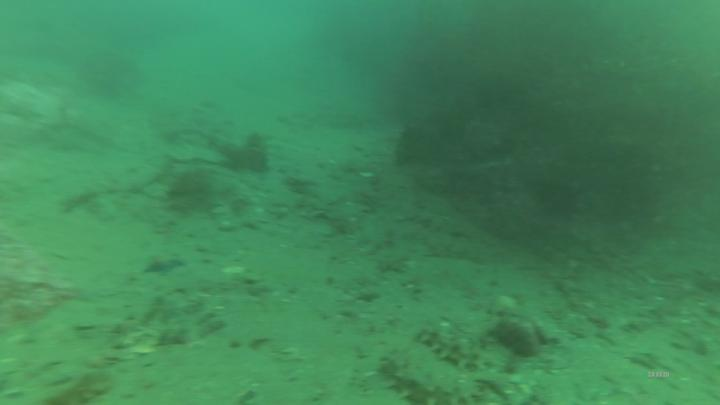echinus: (375, 355, 465, 405), (419, 325, 501, 372)
starfish: (144, 248, 187, 281)
